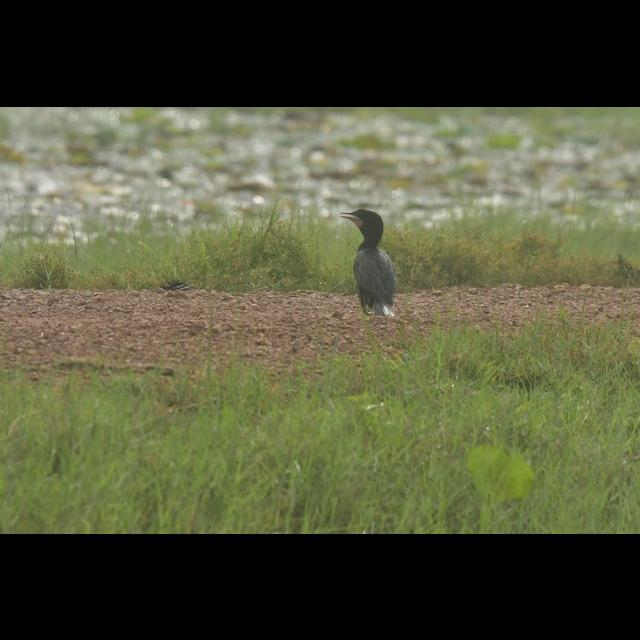cormorant: (338, 206, 410, 318)
